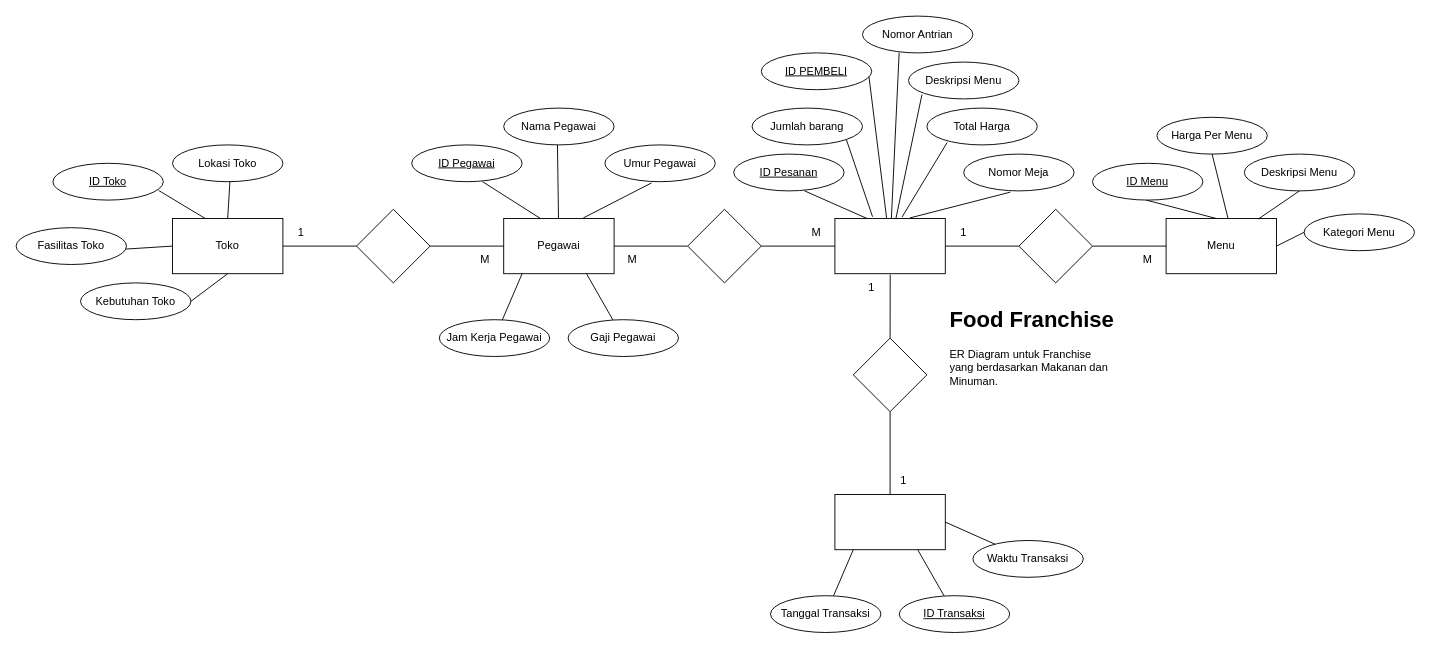
Some shapes in this 1431 by 649 pixel diagram are drawn without their labels. Here are the shapes that lost their labels. From the top down, the centre of each, then its label:
[393,245]: Menjaga
[724,245]: Menerima
[889,246]: Pesanan
[1055,245]: Mencatat
[889,374]: Menyimpan
[889,522]: History Transaksi
